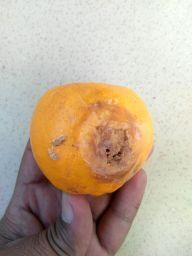Unripe: (29, 83, 155, 194)
